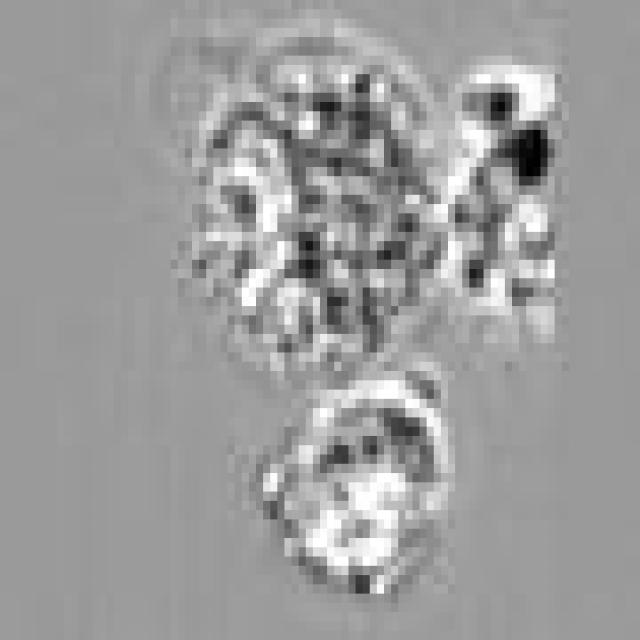Cancer Cell: (199, 28, 441, 371)
WBC: (270, 380, 448, 594), (448, 74, 569, 353)
